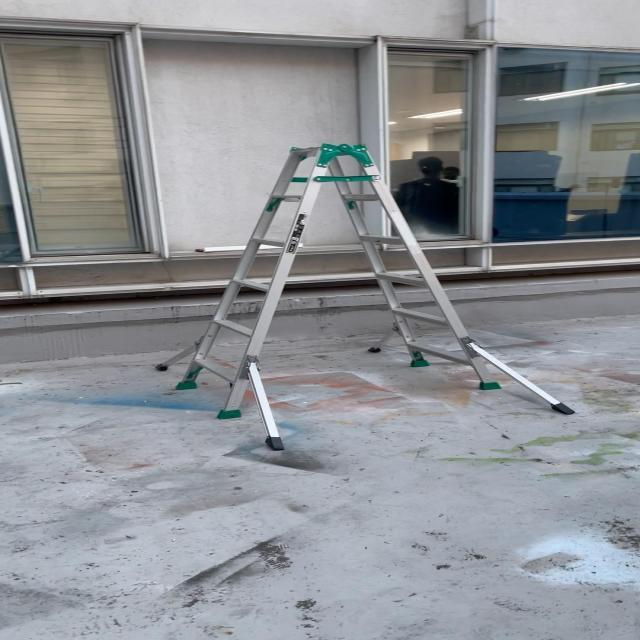boots: (152, 138, 584, 458)
